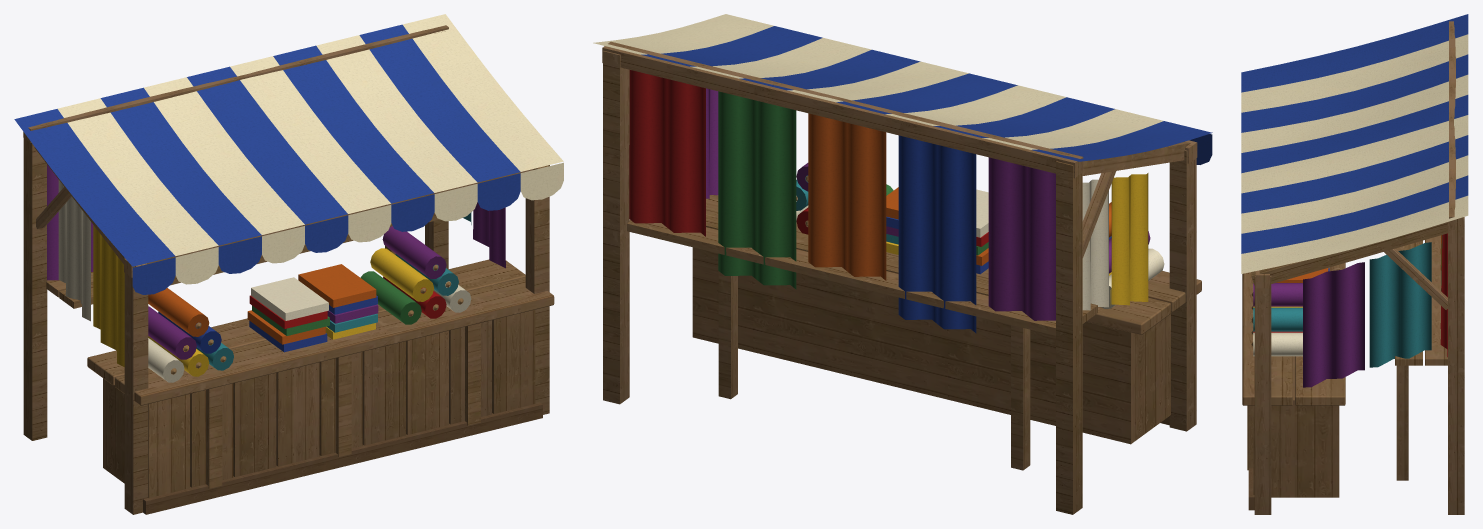
Rendered from market_stall_cloth.glb.
The picture shows the model from 3 angles, left to right: view 1: azimuth 30°, elevation 25°; view 2: azimuth 150°, elevation 25°; view 3: azimuth 270°, elevation 25°; orthographic projection. The views are drawn at different scales.
Parts seen in each view (by area): view 1: prop; view 2: prop; view 3: prop.
Boxes of the visible parts, x1,y1,x2,y2 form: prop: (14, 14, 563, 514); prop: (593, 14, 1212, 514); prop: (1241, 14, 1468, 514).
Size of what is drawn, in the model's own units: 2 by 1.4 by 0.9515.
Materials: 4 (4 with a texture image).
